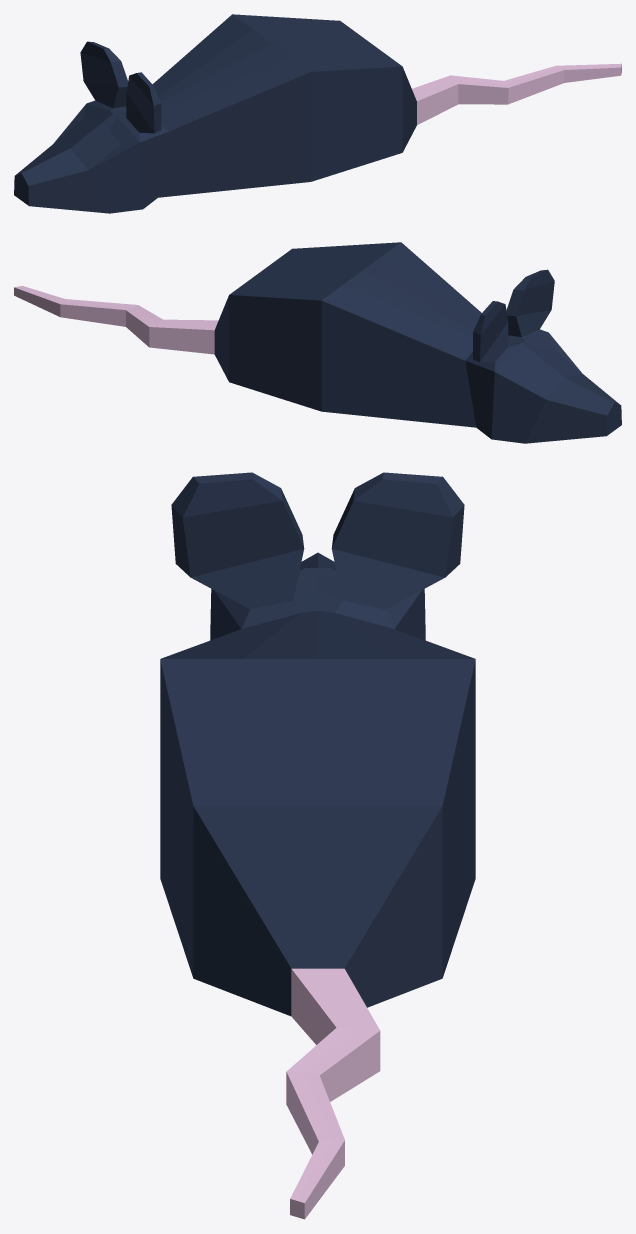
Rendered from Rat.fbx.
3 renders of one model, top to bottom at view 1: azimuth 30°, elevation 25°; view 2: azimuth 150°, elevation 25°; view 3: azimuth 270°, elevation 25°, orthographic. The views are drawn at different scales.
Parts seen in each view (by area): view 1: Rat; view 2: Rat; view 3: Rat.
Part boxes in pixels (box(x1,y1,x2,y2)): Rat: box(14, 14, 621, 213); Rat: box(14, 242, 621, 443); Rat: box(160, 472, 475, 1219).
Size of the model in its own units: 262 by 54.79 by 59.94.
